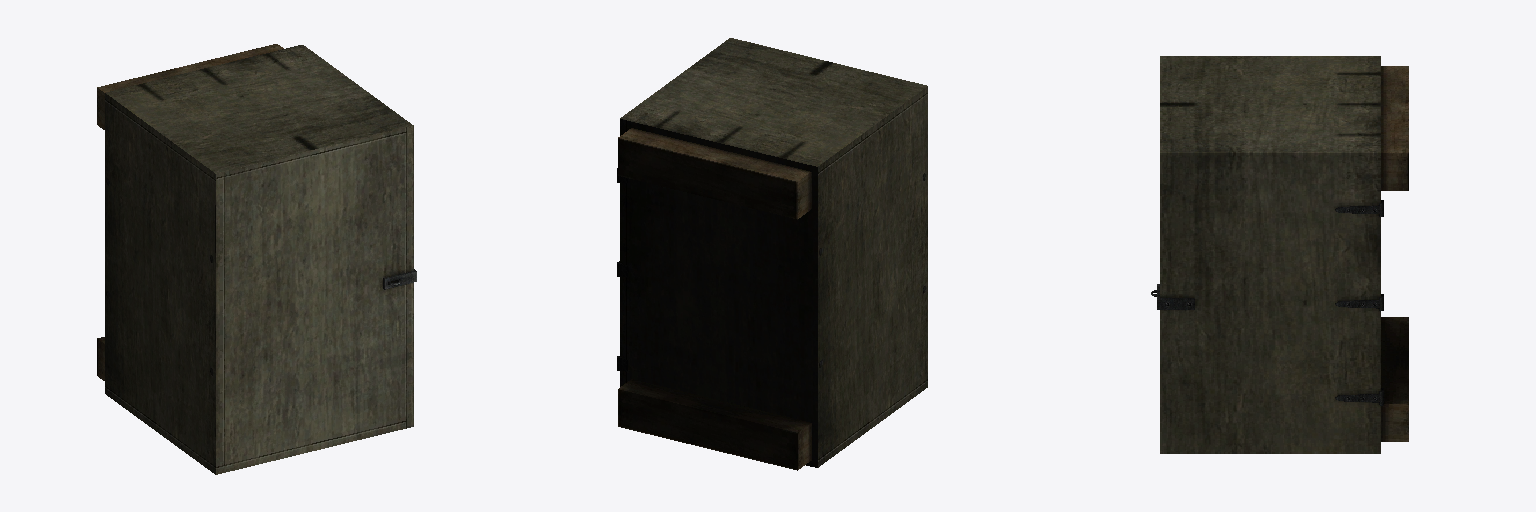
The picture shows the model from 3 angles: view 1: azimuth 30°, elevation 25°; view 2: azimuth 150°, elevation 25°; view 3: azimuth 270°, elevation 25°; orthographic projection.
Visible parts, largest first — view 1: studio.cratelat_ref.mesh_0; view 2: studio.cratelat_ref.mesh_0; view 3: studio.cratelat_ref.mesh_0.
Part boxes in pixels (x1,y1,x2,y2): studio.cratelat_ref.mesh_0: (97, 44, 416, 474); studio.cratelat_ref.mesh_0: (617, 38, 927, 470); studio.cratelat_ref.mesh_0: (1151, 56, 1408, 453).
Size of the model in its own units: 23.75 by 34.08 by 26.49.
Materials: 1 (1 with a texture image).